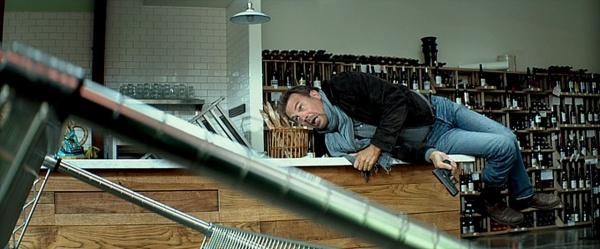Gun: (433, 158, 459, 197)
